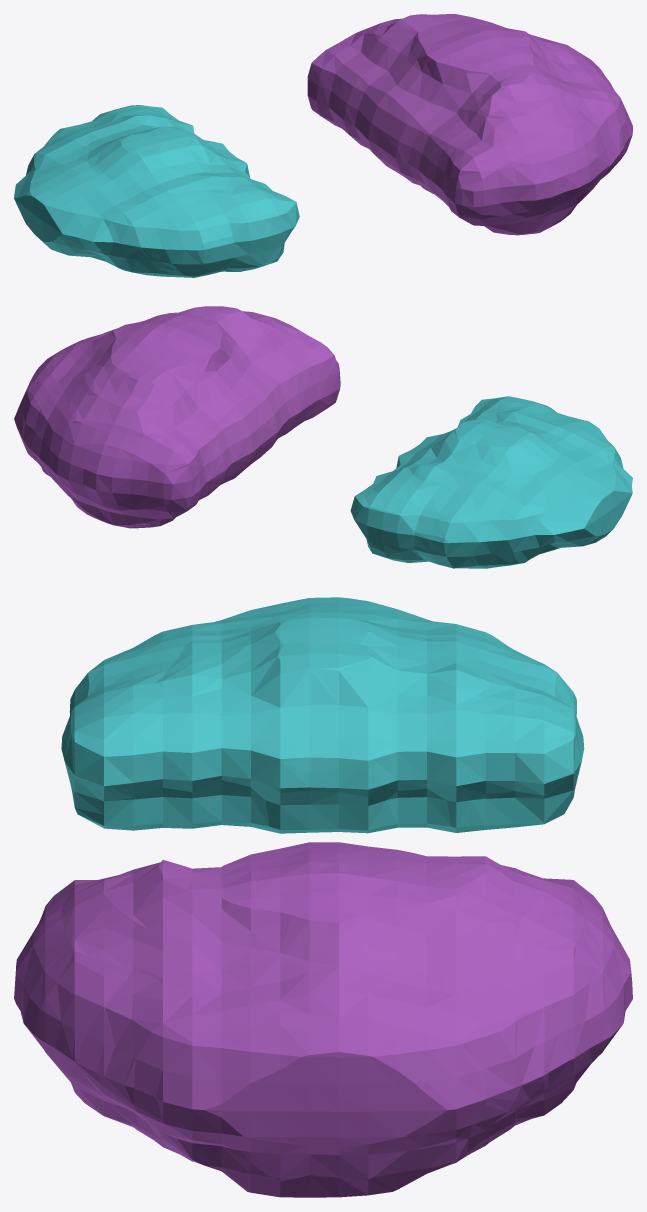
3 views of the same model, one above another, from view 1: azimuth 30°, elevation 25°; view 2: azimuth 150°, elevation 25°; view 3: azimuth 270°, elevation 25° (orthographic). The views are drawn at different scales.
Parts seen in each view (by area): view 1: geometry_0; view 2: geometry_0; view 3: geometry_0.
Boxes of the visible parts, box(x1,y1,x2,y2) form: geometry_0: box(14, 14, 632, 277); geometry_0: box(14, 306, 632, 568); geometry_0: box(14, 597, 632, 1197).
Size of the model in its own units: 1.58 by 0.4584 by 0.8976.
